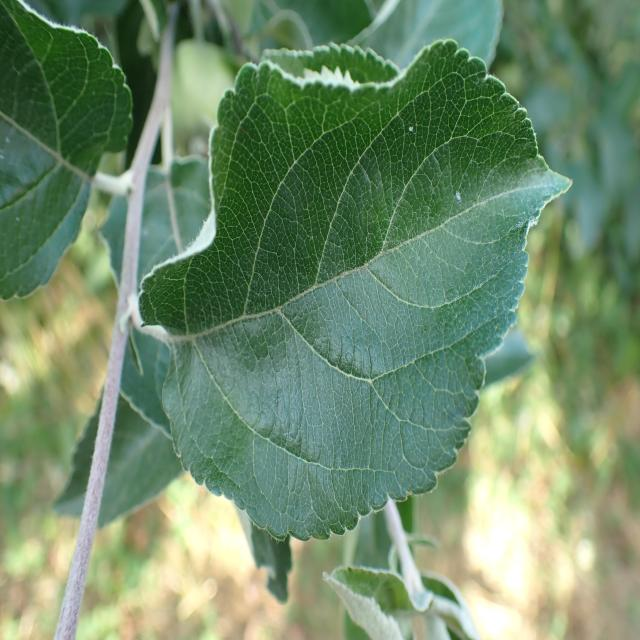healthy: (138, 36, 575, 542), (0, 1, 134, 300)
